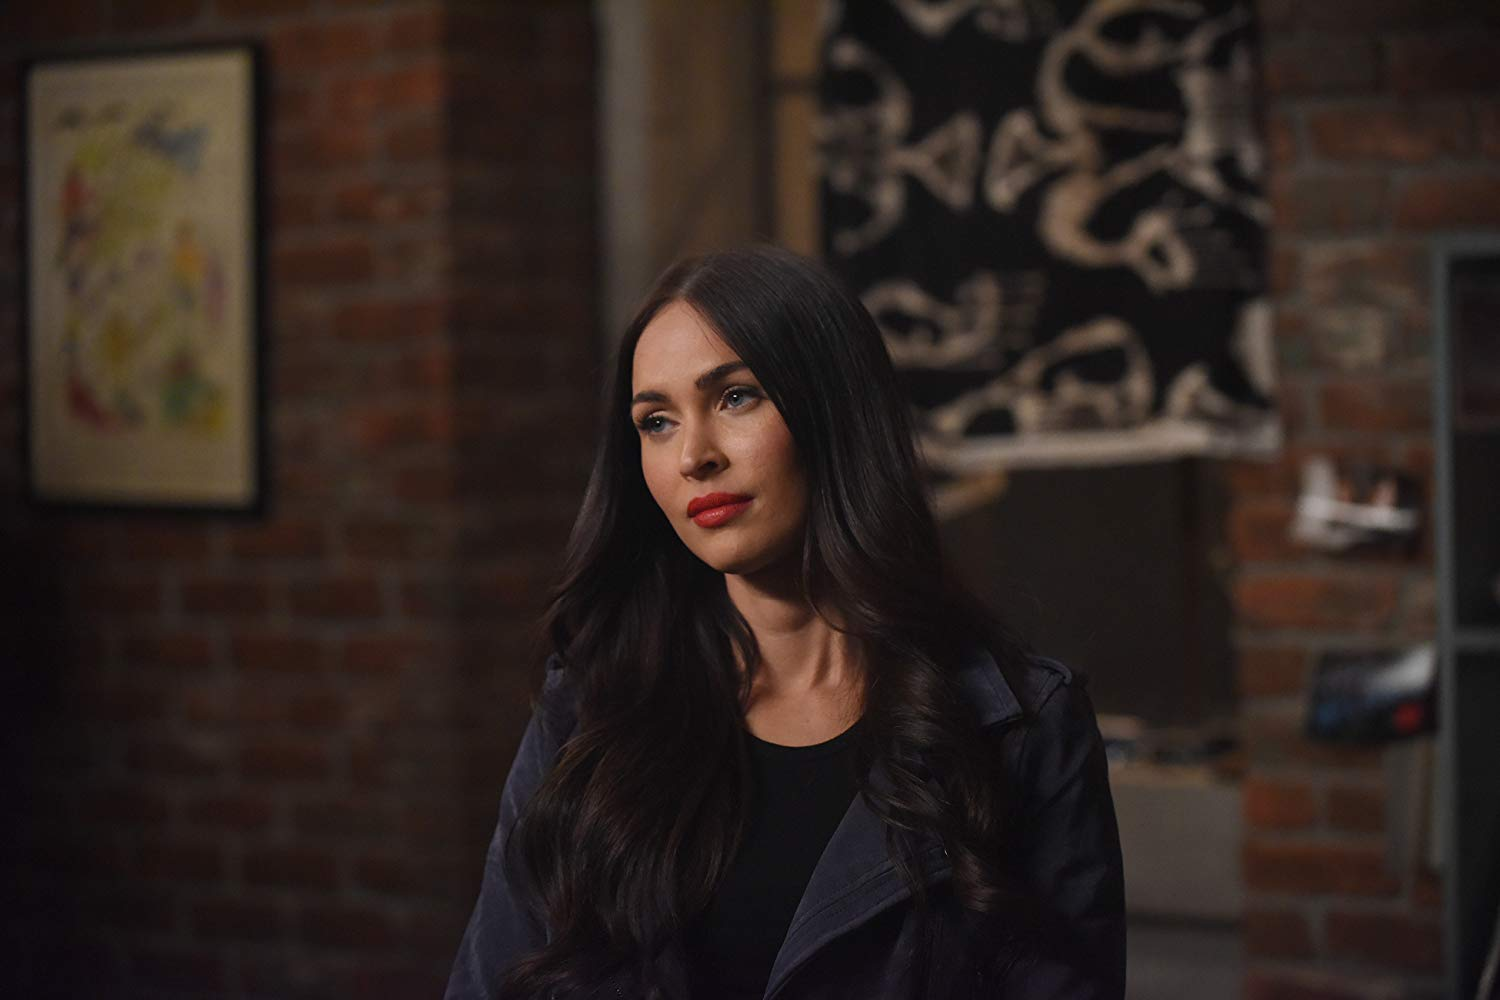person: (466, 226, 1122, 1000)
